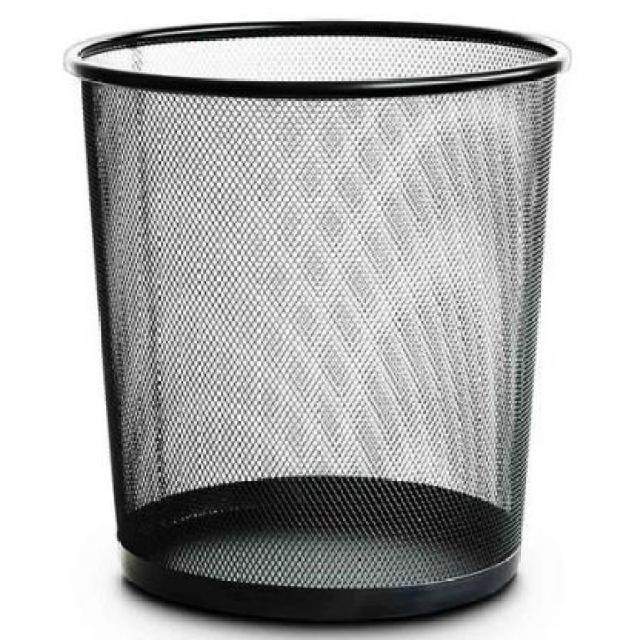dustbin: (60, 13, 577, 632)
